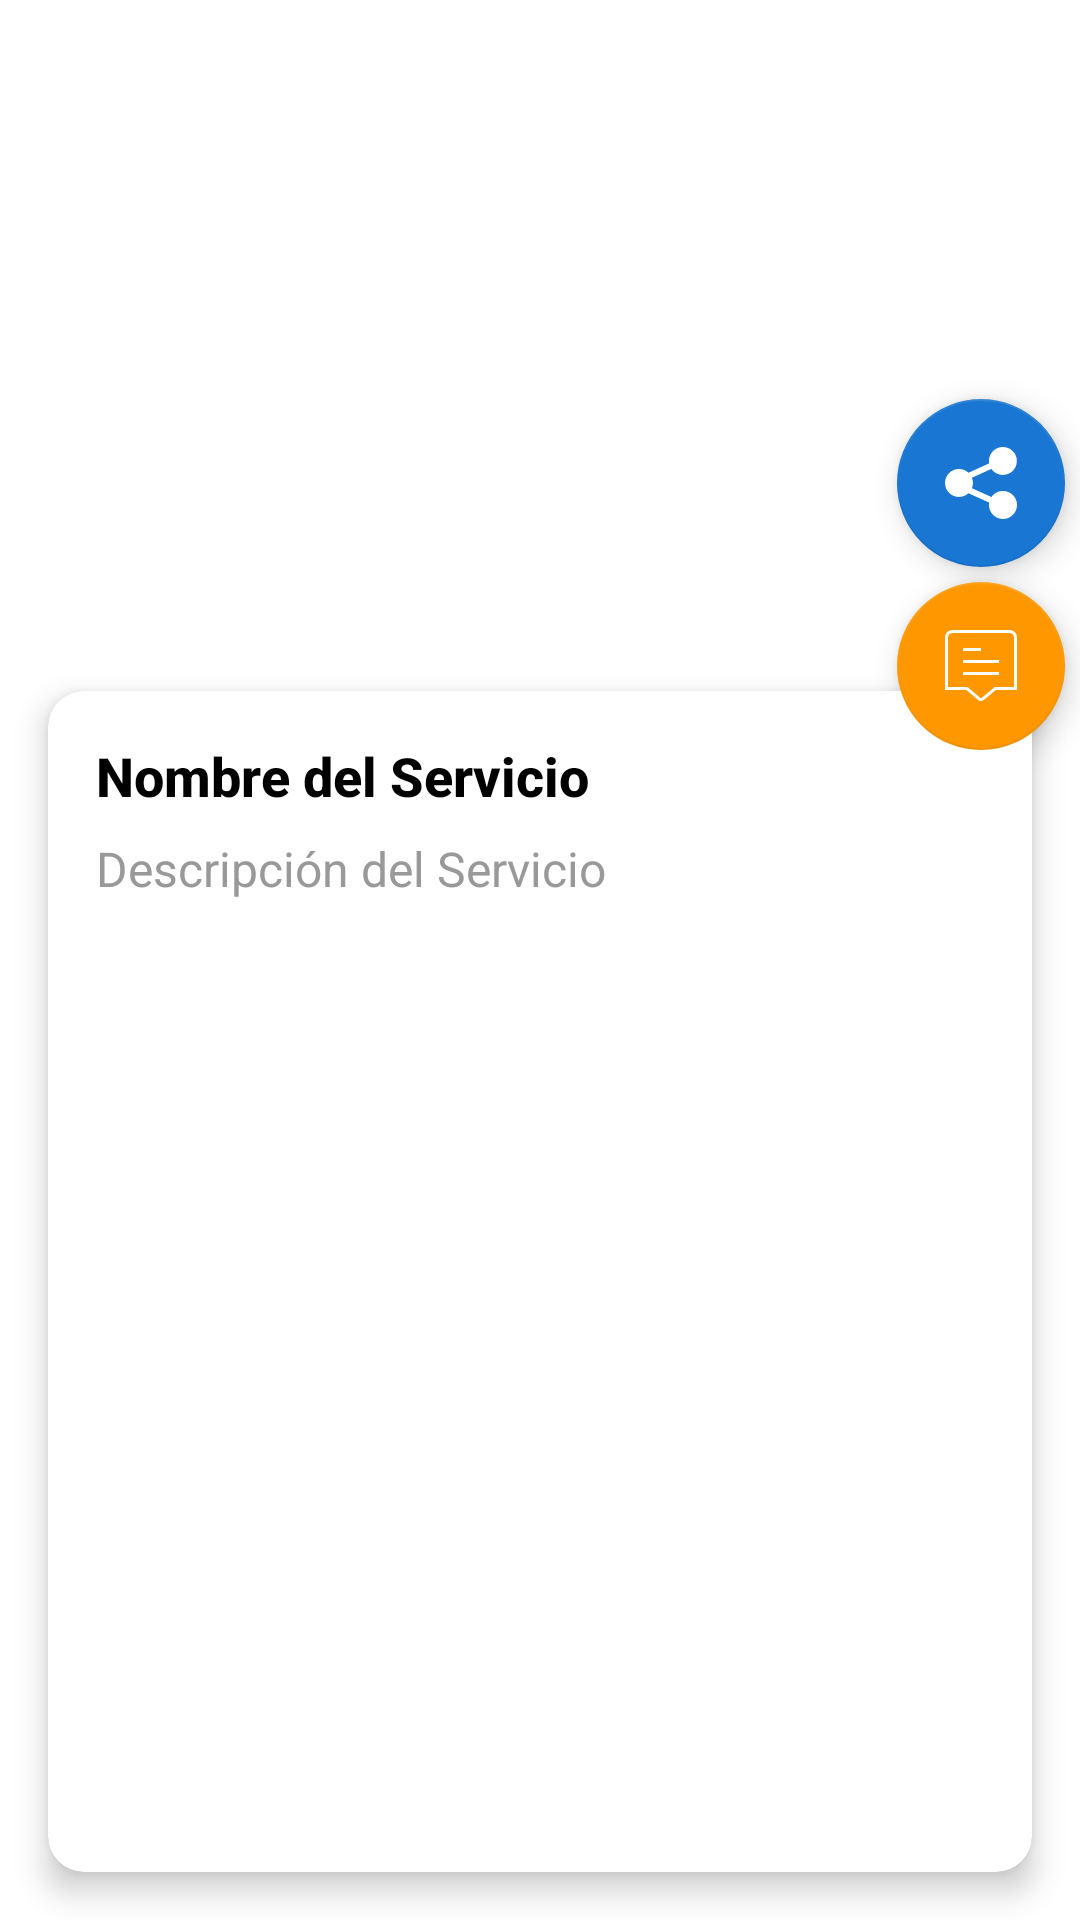

Locate icon controls on the screen. Image size 1080px×1920px, boxes as [left=x1, top=y1, right=x2, bottom=y2].
message: [left=897, top=582, right=1065, bottom=750]
share: [left=897, top=399, right=1065, bottom=567]
